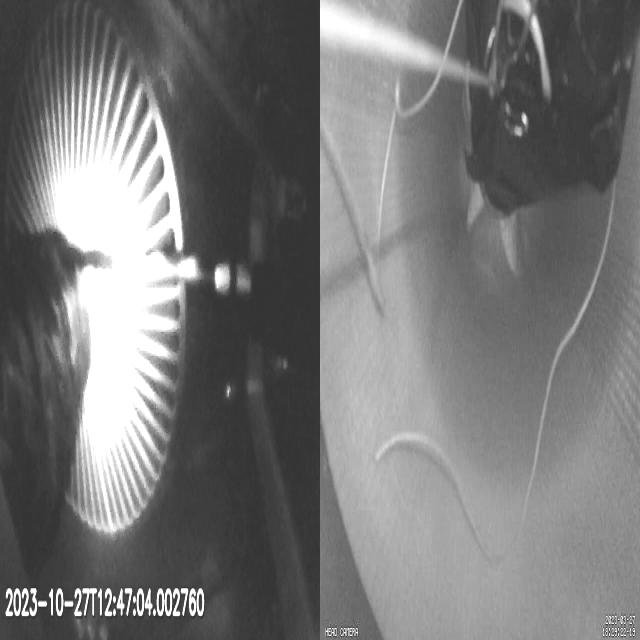white-dots: (213, 257, 263, 301)
